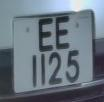1: (30, 52, 43, 91), (37, 51, 49, 90)
2: (47, 51, 65, 88)
5: (63, 48, 82, 85)
E: (35, 14, 56, 57), (53, 12, 73, 55)
